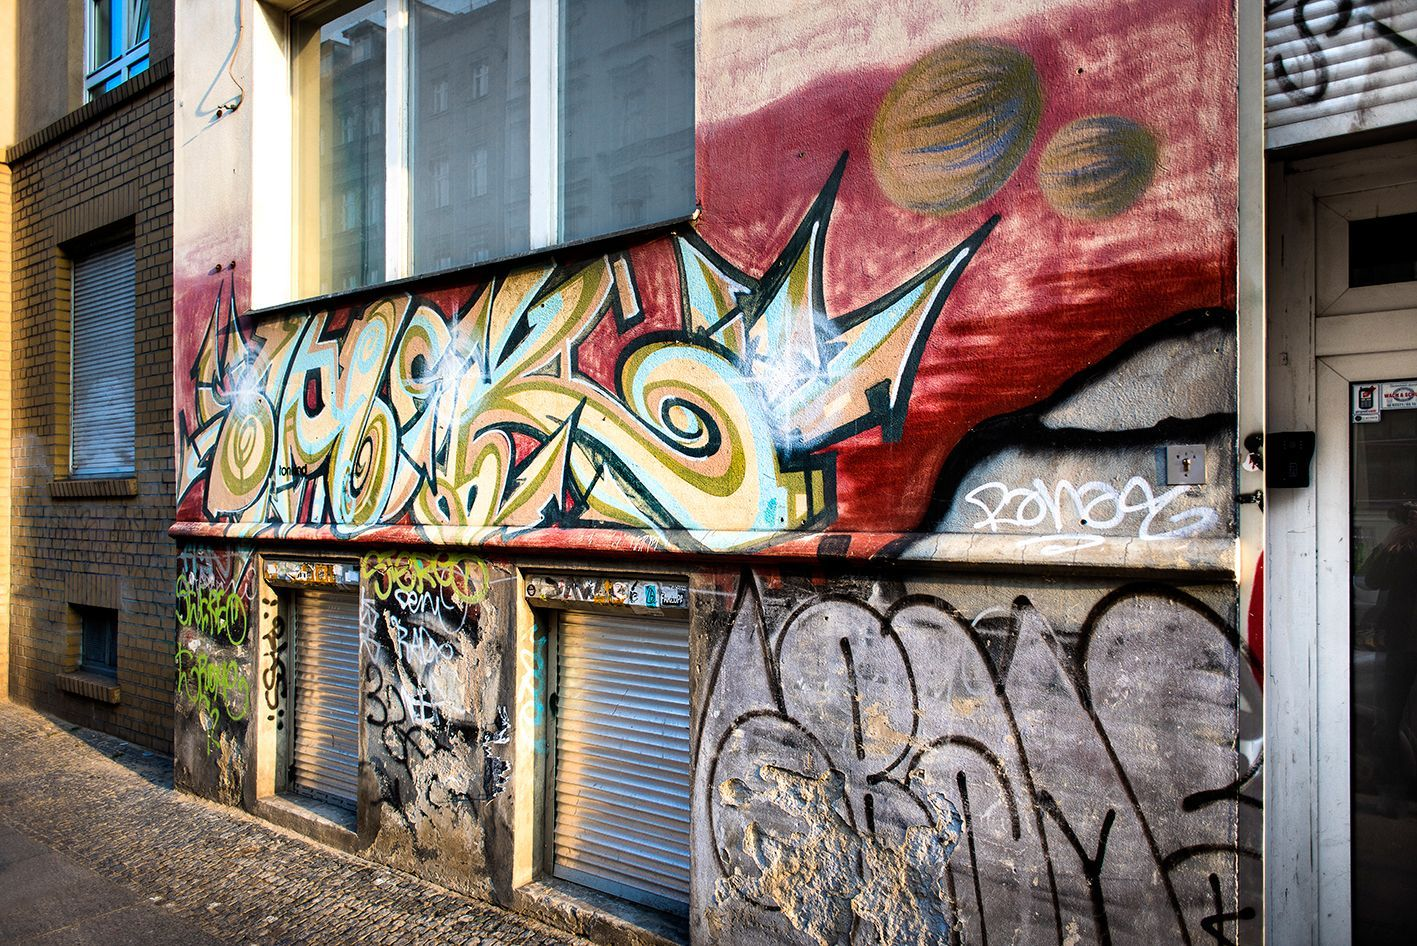graphite: (724, 88, 1249, 536), (697, 565, 1263, 946), (199, 264, 767, 547), (364, 620, 487, 865), (175, 545, 261, 793), (967, 476, 1229, 544), (369, 552, 498, 614), (531, 565, 684, 606), (279, 559, 374, 595)
